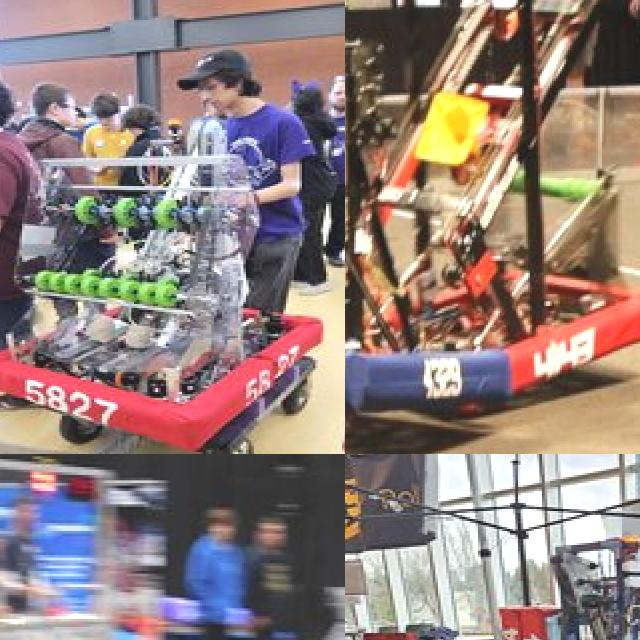FRC-Robots: (6, 85, 280, 454), (405, 0, 640, 381), (345, 0, 492, 428), (494, 527, 640, 640)
